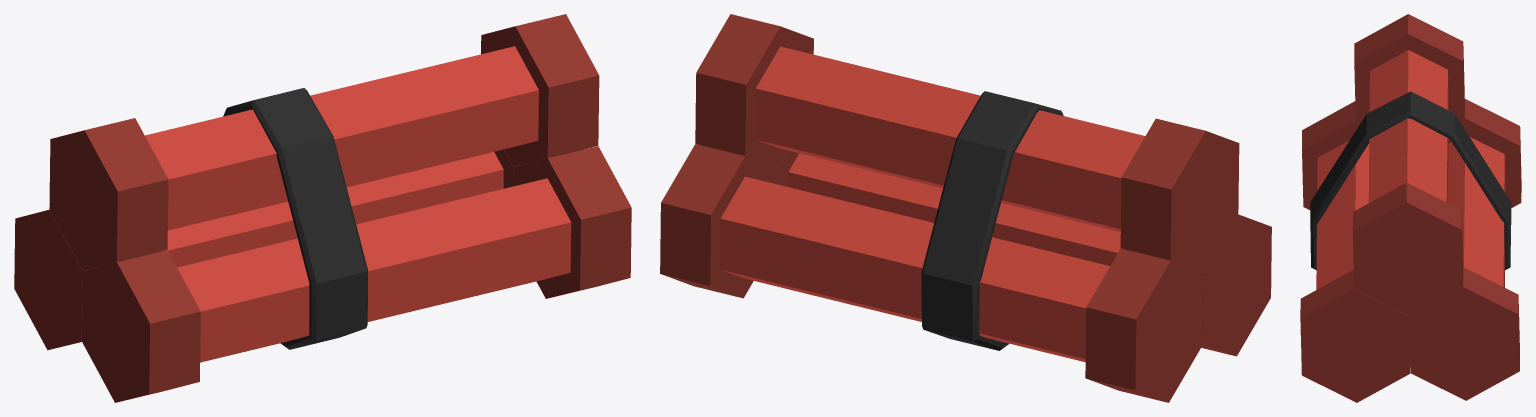
Rendered from TNT_Anim (1).fbx.
3 renders of one model, left to right at view 1: azimuth 30°, elevation 25°; view 2: azimuth 150°, elevation 25°; view 3: azimuth 270°, elevation 25°, orthographic. The views are drawn at different scales.
Parts seen in each view (by area): view 1: Circle.004; view 2: Circle.004; view 3: Circle.004.
Boxes of the visible parts, bbox=[...] form: Circle.004: bbox=[14, 14, 631, 402]; Circle.004: bbox=[660, 14, 1271, 402]; Circle.004: bbox=[1300, 14, 1521, 402].
Size of the model in its own units: 0.2672 by 0.1328 by 0.1325.
